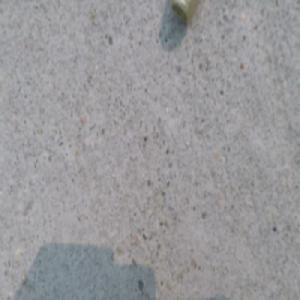BoltNutSet: (171, 1, 197, 23)
